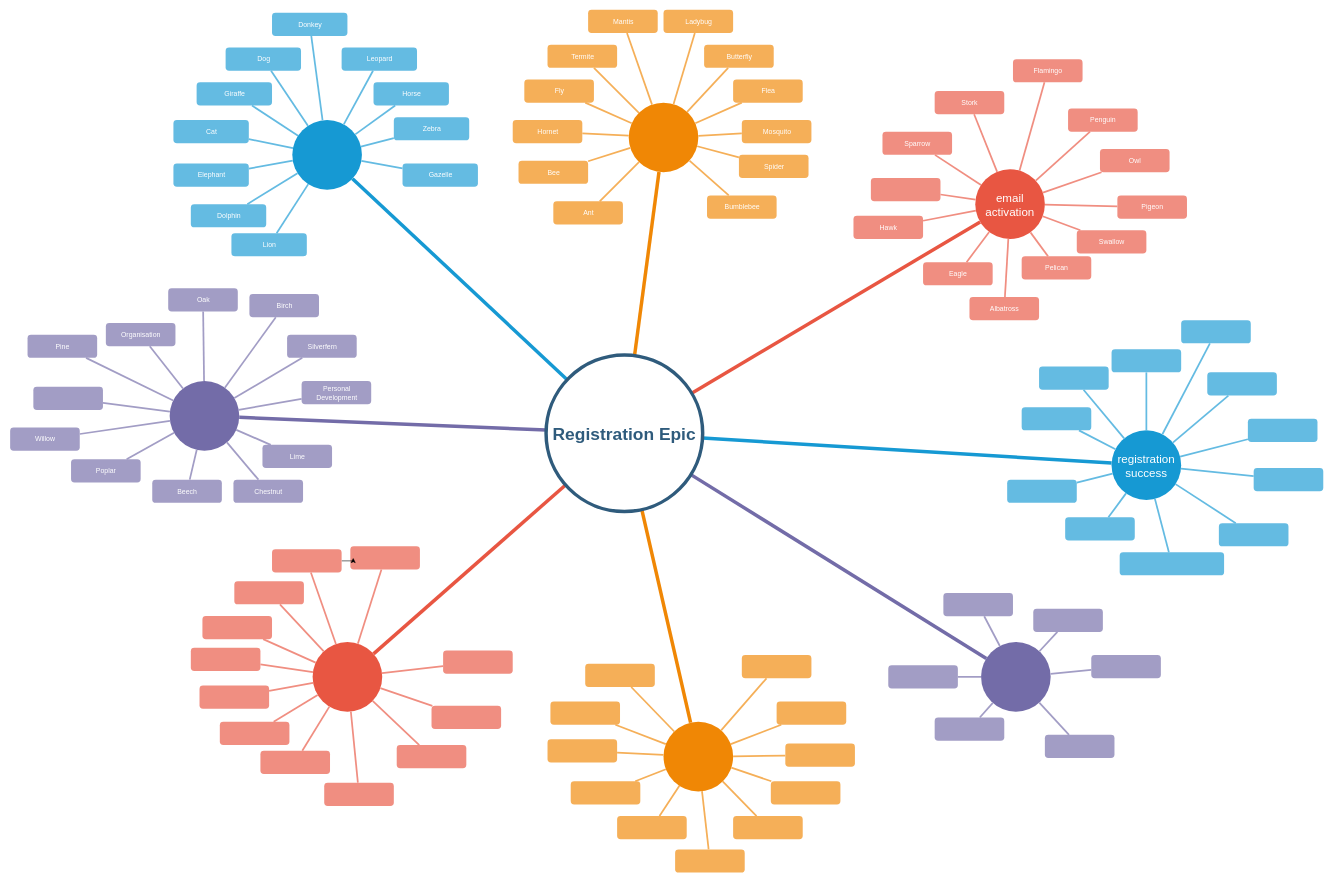
The diagram is 1333 pixels wide and 883 high, and some of its shapes have lost their labels. Each missing label, with the centre of its shape:
"Acacia" belongs at (68,398).
"Backlog" belongs at (347,676).
"Falcon" belongs at (905,189).
"password should be encrypted" belongs at (1171,563).
"registration fields" belongs at (698,756).
"Role Configuration" belongs at (327,154).
"validation" belongs at (1015,676).
